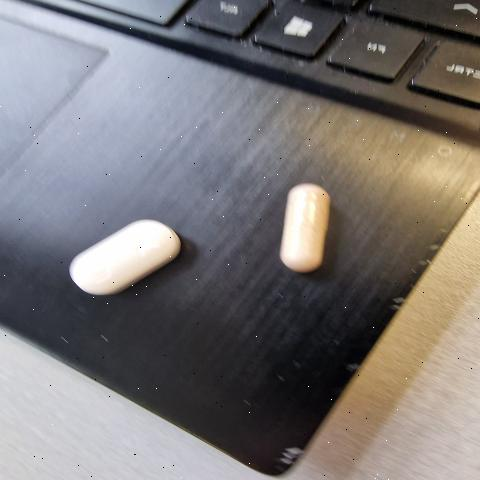Pill: (50, 199, 198, 303), (268, 155, 357, 290)
